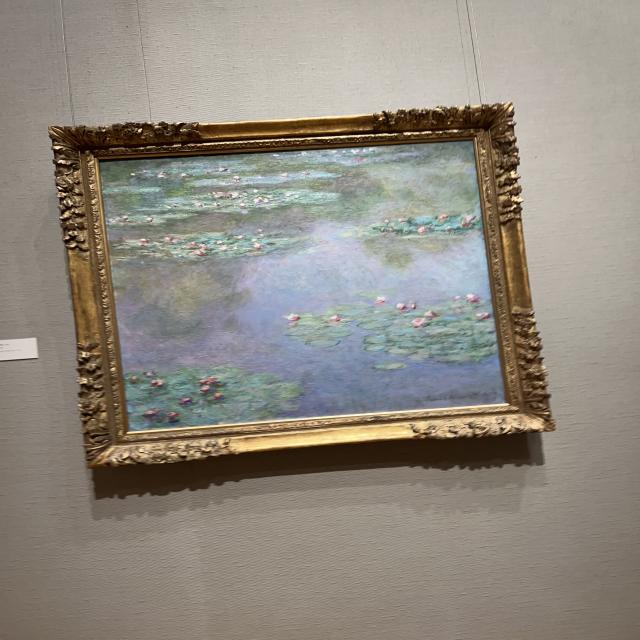lilies: (104, 141, 502, 432)
